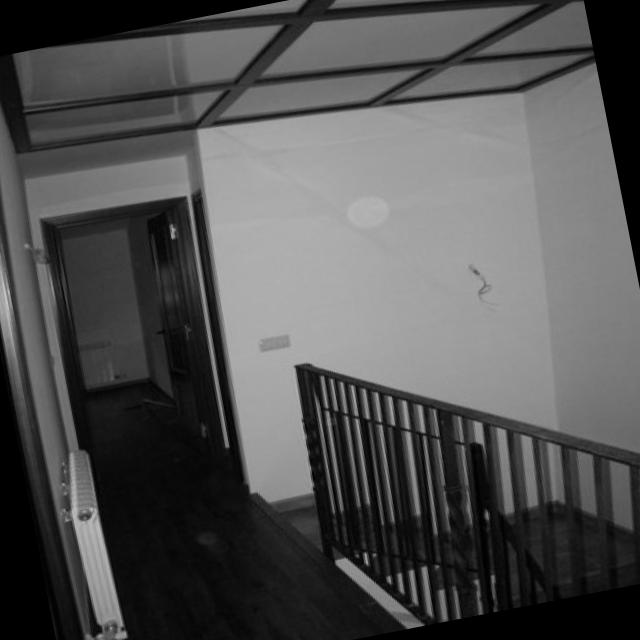Corridor: (44, 197, 217, 449)
door bars: (146, 214, 206, 441)
door handle: (0, 179, 86, 640)
radiator occluded: (60, 447, 137, 640)
smoke detector: (348, 197, 393, 226)
stair guard rail: (304, 363, 640, 622)
stairs: (259, 487, 640, 563)
